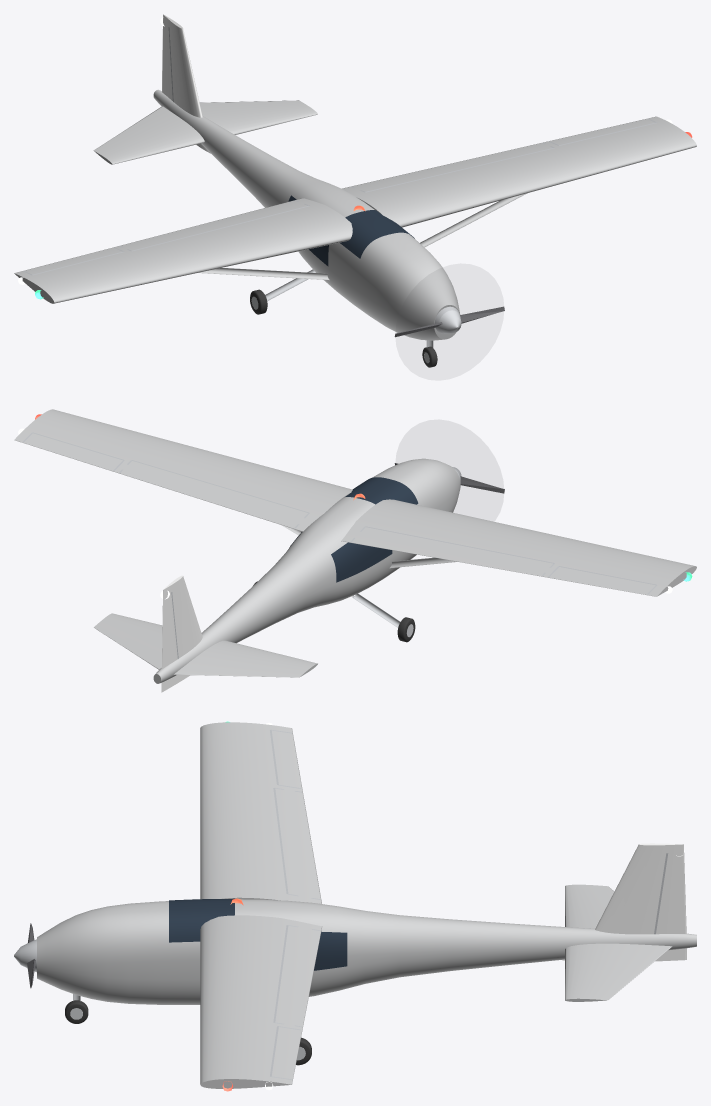
3 renders of one model, top to bottom at view 1: azimuth 30°, elevation 25°; view 2: azimuth 150°, elevation 25°; view 3: azimuth 270°, elevation 25°, orthographic. The views are drawn at different scales.
Parts seen in each view (by area): view 1: airframe; view 2: airframe; view 3: airframe.
Part boxes in pixels (left/top/right/bottom): airframe: left=14, top=14, right=696, bottom=367; airframe: left=14, top=409, right=696, bottom=692; airframe: left=14, top=721, right=696, bottom=1091.
Size of the model in its own units: 11.22 by 2.57 by 8.9.
